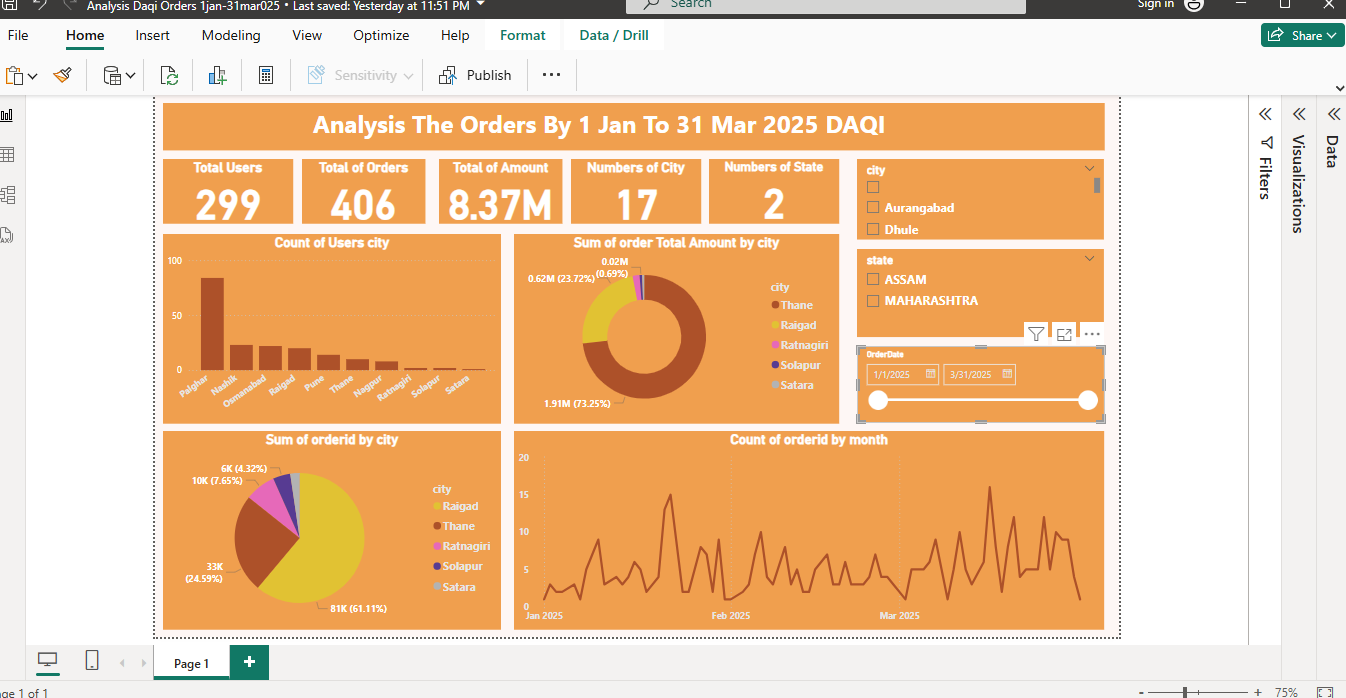

The page's visual inventory and layout, read from the dashboard file:
{"tool":"powerbi","page":{"name":"Page 1","canvas":[1280,720],"ordinal":0},"visuals":[{"type":"textbox","box":[10.1,10.1,1251.4,63.4],"z":0},{"type":"card","title":"Total Users","fields":{"Values":["Count(1jan-31mar data powerbi 123.id)"]},"box":[10.1,85,172.8,86.4],"z":1000},{"type":"card","title":"Total of Orders","fields":{"Values":["Count(1jan-31mar data powerbi 123.orderid)"]},"box":[195.8,85,164.2,86.4],"z":2000},{"type":"card","title":"Total of Amount","fields":{"Values":["Sum(1jan-31mar data powerbi 123.orderTotalWithGST)"]},"box":[377.3,85,164.2,86.4],"z":3000},{"type":"card","title":"Numbers of City","fields":{"Values":["Count(1jan-31mar data powerbi 123.city)"]},"box":[553,85,172.8,86.4],"z":4000},{"type":"card","title":"Numbers of State","fields":{"Values":["Count(1jan-31mar data powerbi 123.state)"]},"box":[735.8,85,172.8,86.4],"z":5000},{"type":"slicer","fields":{"Values":["1jan-31mar data powerbi 123.city"]},"box":[933.1,85,328.3,106.6],"z":6000},{"type":"slicer","fields":{"Values":["1jan-31mar data powerbi 123.state"]},"box":[933.1,204.5,328.3,116.6],"z":7000},{"type":"slicer","fields":{"Values":["1jan-31mar data powerbi 123.orderDate.1"]},"box":[933.1,334.1,328.3,102.2],"z":8000},{"type":"columnChart","title":"Count of Users city","fields":{"Category":["1jan-31mar data powerbi 123.city"],"Y":["Count(1jan-31mar data powerbi 123.id)"]},"box":[10.1,184.3,449.3,252],"z":9000},{"type":"pieChart","fields":{"Category":["1jan-31mar data powerbi 123.city"],"Y":["Sum(1jan-31mar data powerbi 123.orderid)"]},"box":[10.1,446.4,449.3,263.5],"z":10000},{"type":"donutChart","title":"Sum of order Total Amount by city","fields":{"Category":["1jan-31mar data powerbi 123.city"],"Y":["Sum(1jan-31mar data powerbi 123.orderTotalWithGST)"]},"box":[476.6,184.3,432,252],"z":11000},{"type":"lineChart","title":"Count of orderid by month","fields":{"Category":["1jan-31mar data powerbi 123.orderDate.1"],"Y":["Count(1jan-31mar data powerbi 123.orderid)"]},"box":[477.1,446.8,784.5,263.7],"z":12000}]}

Visuals, with their boxes on the page's 1280x720 design canvas (x1, y1, x2, y2). These are canvas units, not pixel positions in the 1346x698 screenshot, which may show the page scaled, cropped or inside an application window:
textbox: select_region(10, 10, 1262, 74)
"Total Users" card: select_region(10, 85, 183, 171)
"Total of Orders" card: select_region(196, 85, 360, 171)
"Total of Amount" card: select_region(377, 85, 542, 171)
"Numbers of City" card: select_region(553, 85, 726, 171)
"Numbers of State" card: select_region(736, 85, 909, 171)
slicer - 1jan-31mar data powerbi 123.city: select_region(933, 85, 1261, 192)
slicer - 1jan-31mar data powerbi 123.state: select_region(933, 204, 1261, 321)
slicer - 1jan-31mar data powerbi 123.orderDate.1: select_region(933, 334, 1261, 436)
"Count of Users city" columnChart: select_region(10, 184, 459, 436)
pieChart - 1jan-31mar data powerbi 123.city x Sum(1jan-31mar data powerbi 123.orderid): select_region(10, 446, 459, 710)
"Sum of order Total Amount by city" donutChart: select_region(477, 184, 909, 436)
"Count of orderid by month" lineChart: select_region(477, 447, 1262, 710)
